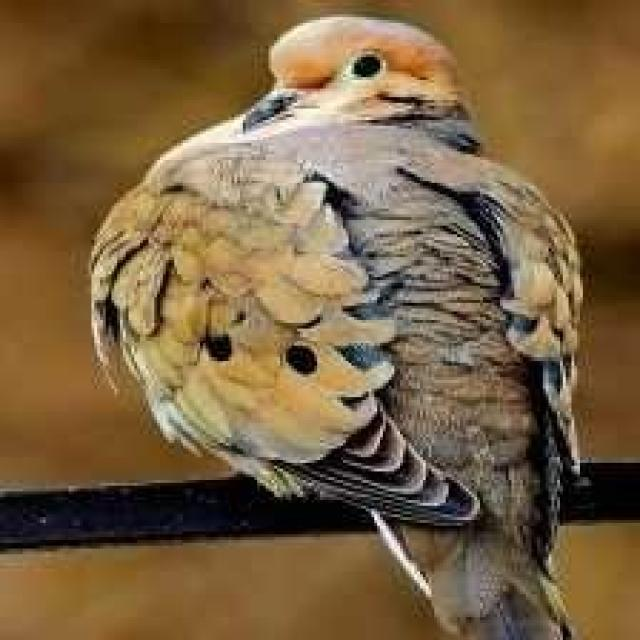dove: (86, 14, 591, 640)
